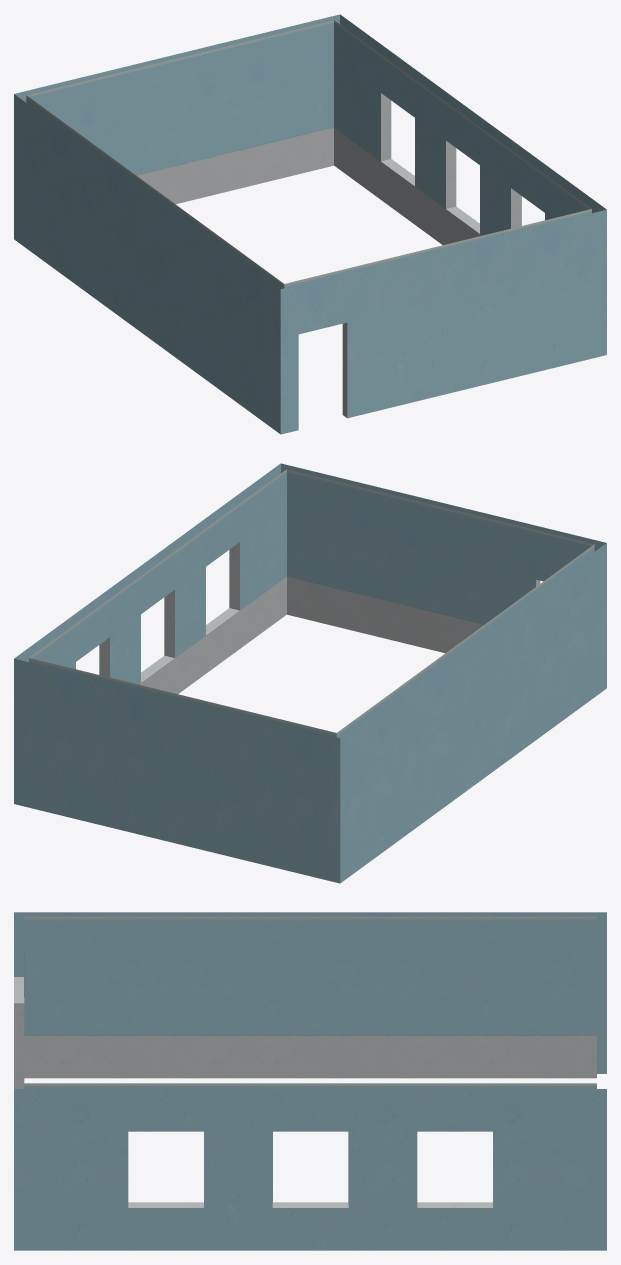
File: Walls.fbx
3 views of the same model, one above another, from view 1: azimuth 30°, elevation 25°; view 2: azimuth 150°, elevation 25°; view 3: azimuth 270°, elevation 25° (orthographic). The views are drawn at different scales.
Parts seen in each view (by area): view 1: Walls; view 2: Walls; view 3: Walls.
Boxes of the visible parts, left/top/right/bottom form: Walls: left=14, top=14, right=606, bottom=434; Walls: left=14, top=463, right=606, bottom=883; Walls: left=14, top=912, right=606, bottom=1250.
Size of the model in its own units: 972 by 414 by 1377.
